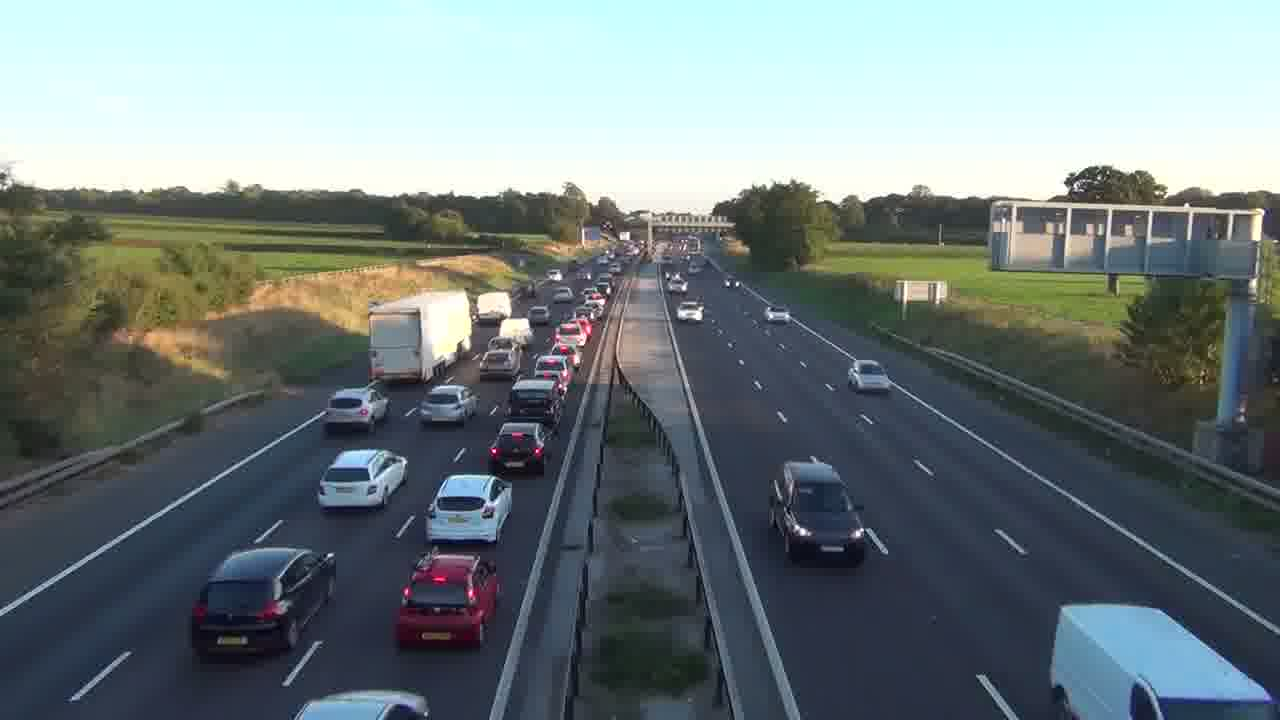car: (189, 545, 336, 662), (767, 457, 867, 565), (392, 552, 500, 650), (423, 472, 514, 544), (316, 447, 407, 511), (293, 688, 430, 720), (323, 386, 391, 433), (488, 421, 546, 475), (508, 378, 563, 427), (421, 384, 475, 425), (478, 337, 521, 381), (847, 359, 893, 393)
truck: (1049, 601, 1279, 719), (367, 289, 474, 384)
